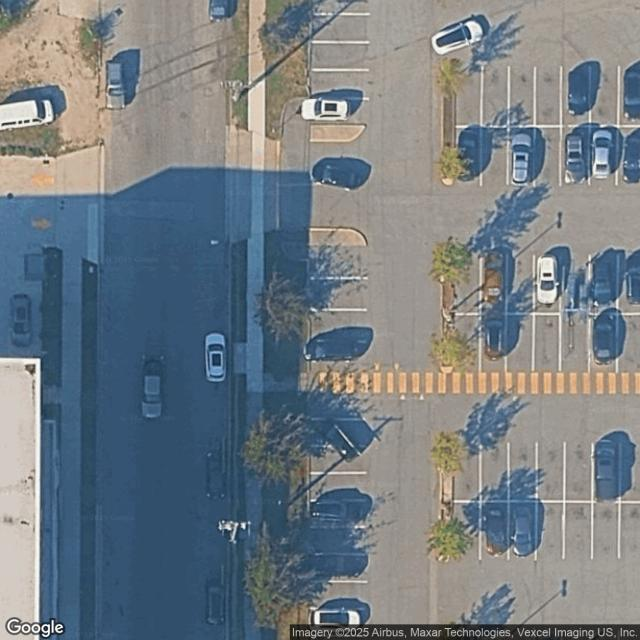car: (311, 161, 363, 188), (595, 440, 618, 499), (482, 249, 506, 304), (512, 503, 535, 555), (593, 316, 617, 364), (307, 339, 353, 364), (564, 134, 586, 186), (455, 124, 482, 166), (301, 98, 347, 122), (536, 256, 559, 303), (511, 132, 531, 186), (486, 503, 508, 552), (309, 501, 358, 523), (592, 128, 611, 178), (568, 72, 589, 116), (484, 316, 506, 357), (622, 134, 640, 183), (593, 259, 613, 303), (623, 69, 640, 119), (312, 609, 361, 625), (626, 255, 640, 302)
